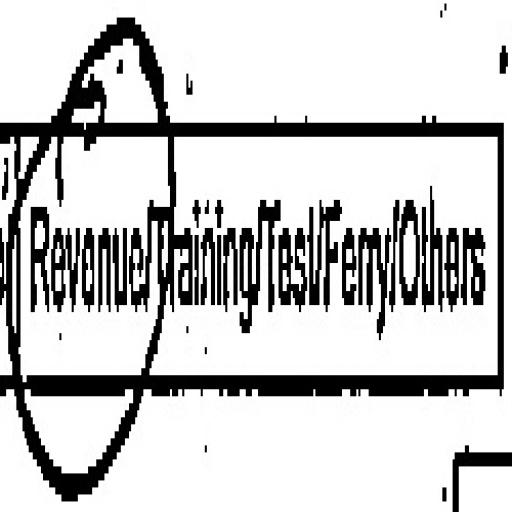check: (5, 40, 146, 512)
